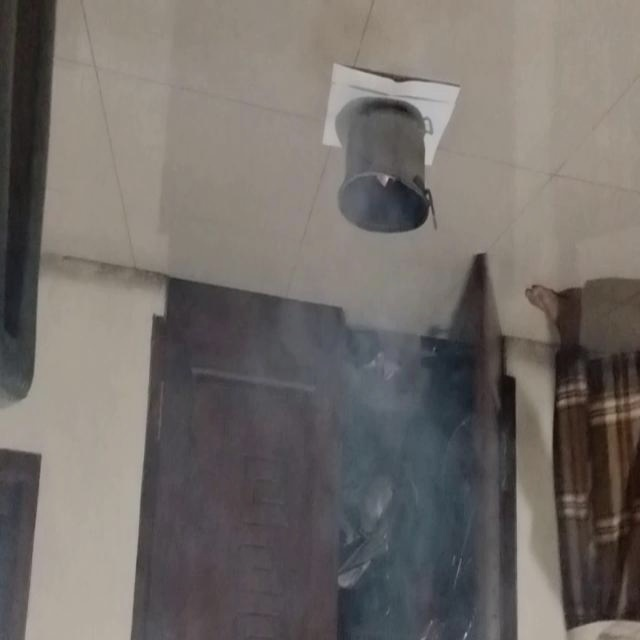smoke: (297, 275, 416, 526)
